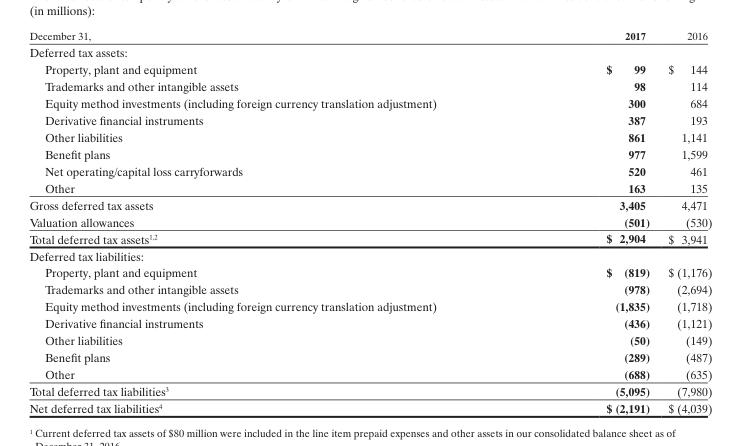table: (28, 28, 711, 414)
table column: (28, 28, 520, 414), (520, 28, 658, 414), (658, 28, 711, 414)
table column header: (28, 28, 711, 43)
table projected row header: (28, 43, 711, 60), (28, 246, 711, 263)
table row: (28, 43, 711, 60), (28, 60, 711, 77), (28, 77, 711, 94), (28, 94, 711, 111), (28, 111, 711, 128), (28, 128, 711, 145), (28, 145, 711, 162), (28, 162, 711, 179), (28, 179, 711, 196), (28, 196, 711, 213), (28, 213, 711, 230), (28, 246, 711, 263), (28, 263, 711, 280), (28, 280, 711, 297), (28, 297, 711, 314), (28, 314, 711, 331), (28, 331, 711, 348), (28, 348, 711, 365), (28, 365, 711, 382), (28, 382, 711, 399), (28, 230, 711, 246), (28, 28, 711, 43), (28, 399, 711, 414)
